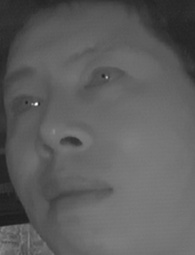eye: (81, 64, 127, 95), (6, 91, 45, 120)
mouth: (40, 173, 116, 220)
